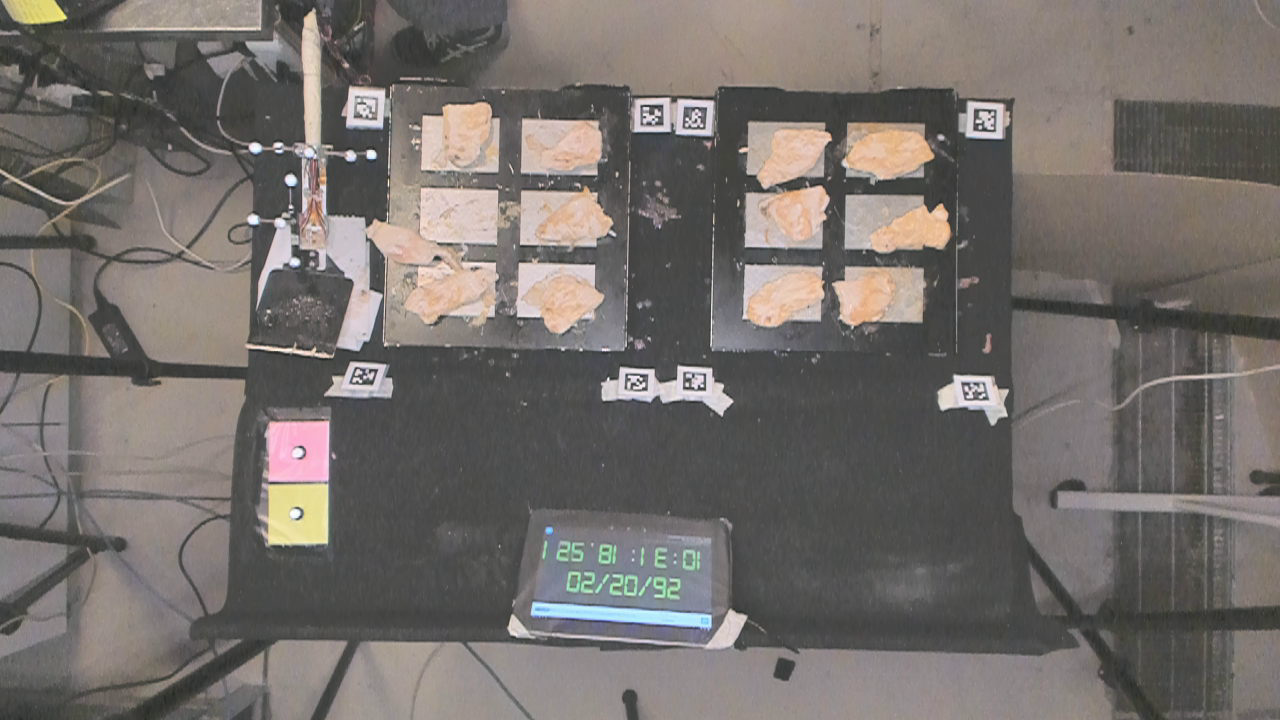chicken: (403, 266, 502, 323), (366, 211, 467, 266), (520, 274, 607, 332), (543, 185, 616, 252), (840, 128, 935, 179), (746, 267, 826, 327), (752, 122, 828, 185), (871, 205, 955, 257), (438, 97, 498, 169), (533, 116, 612, 170), (830, 271, 899, 330), (767, 187, 831, 245)
marker: (268, 420, 329, 483)
